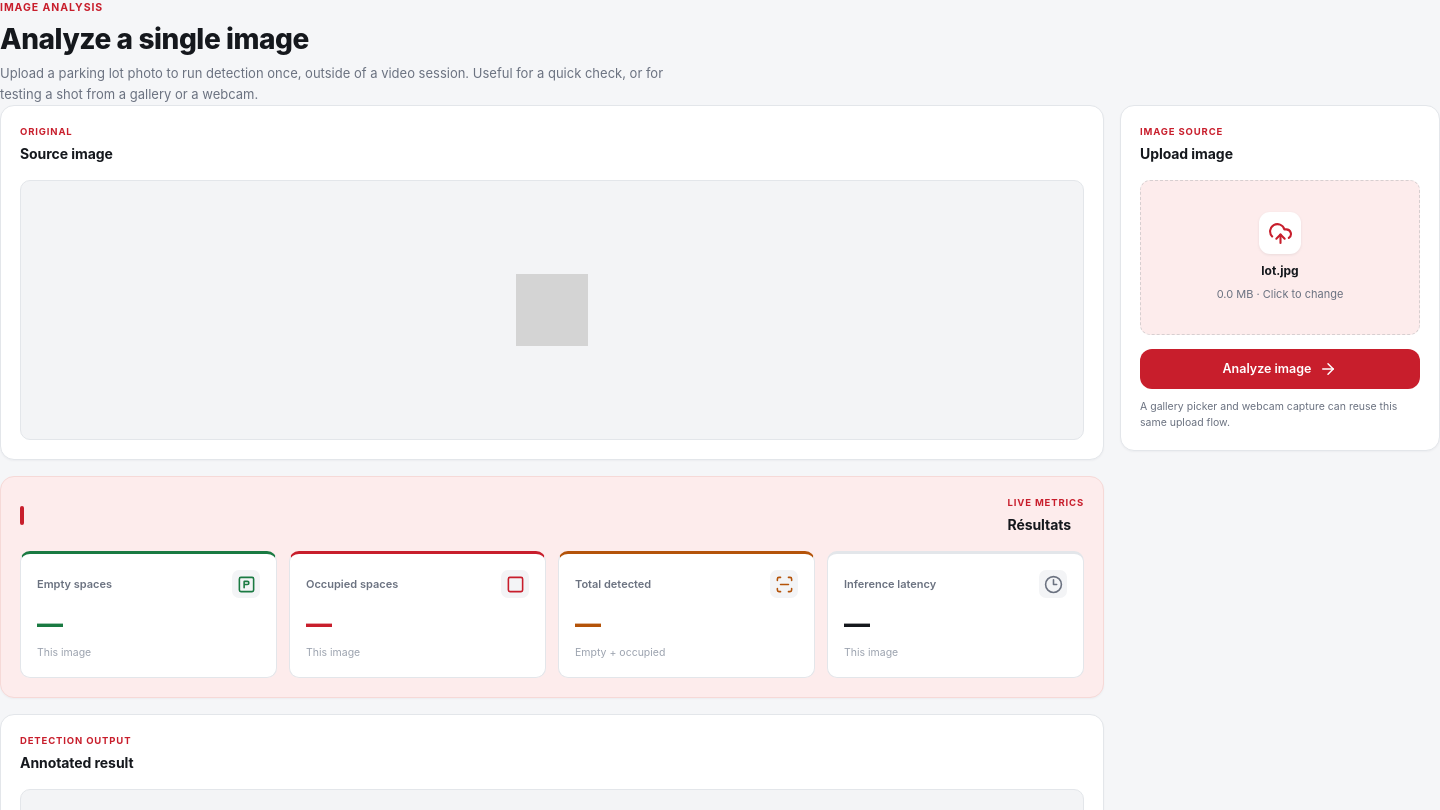
it: ImagePage › shows counts, latency and detections after a successful analysis
Earlier steps of the test are not shown.
Click the button "Analyze image". click: (1280, 369)
box: 1140,349 -> 1420,389
(page scrolled)
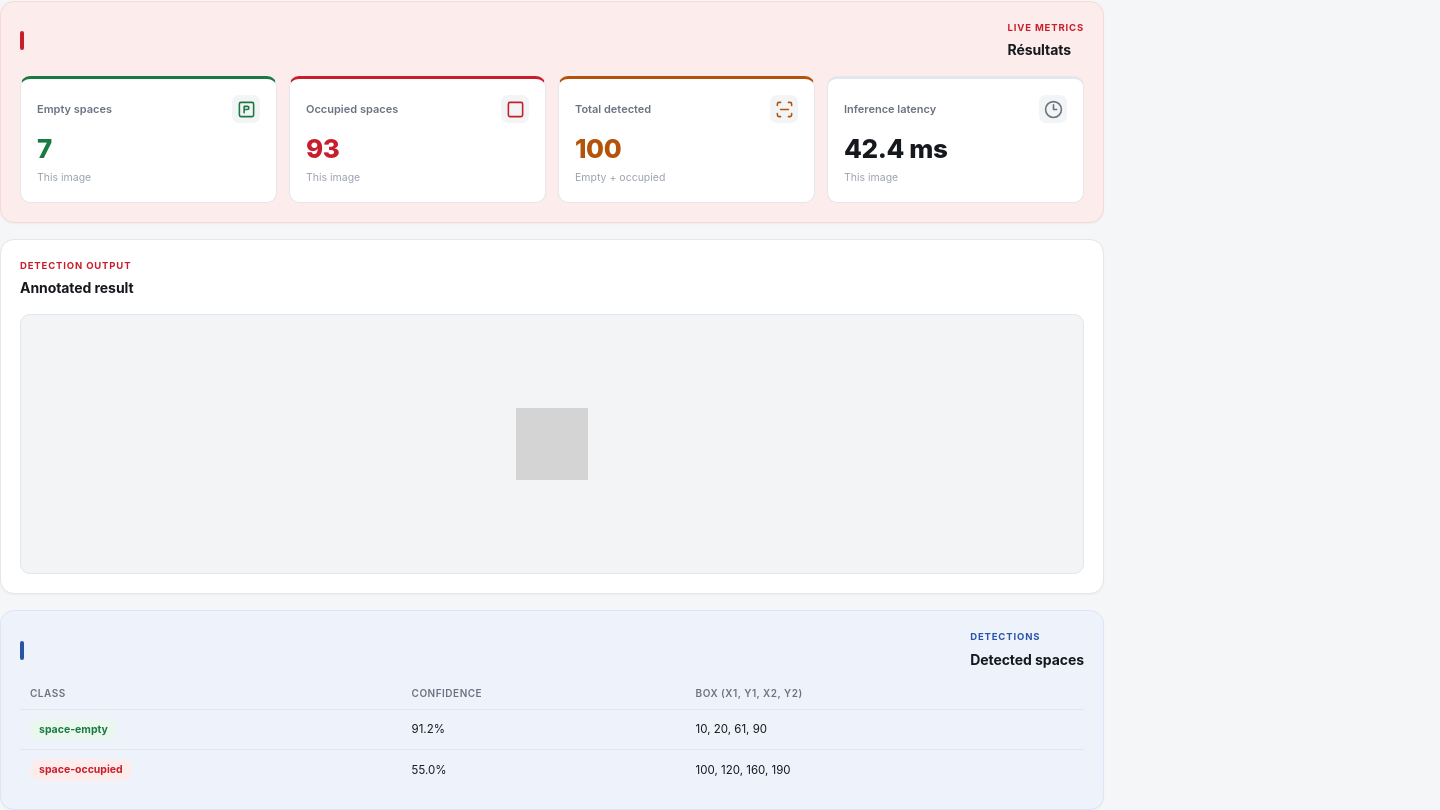
Result: the text "93" is shown at 306,133 -> 340,164
Result: the text "7" is shown at 37,133 -> 52,164
Result: the text "100" is shown at 575,133 -> 621,164
